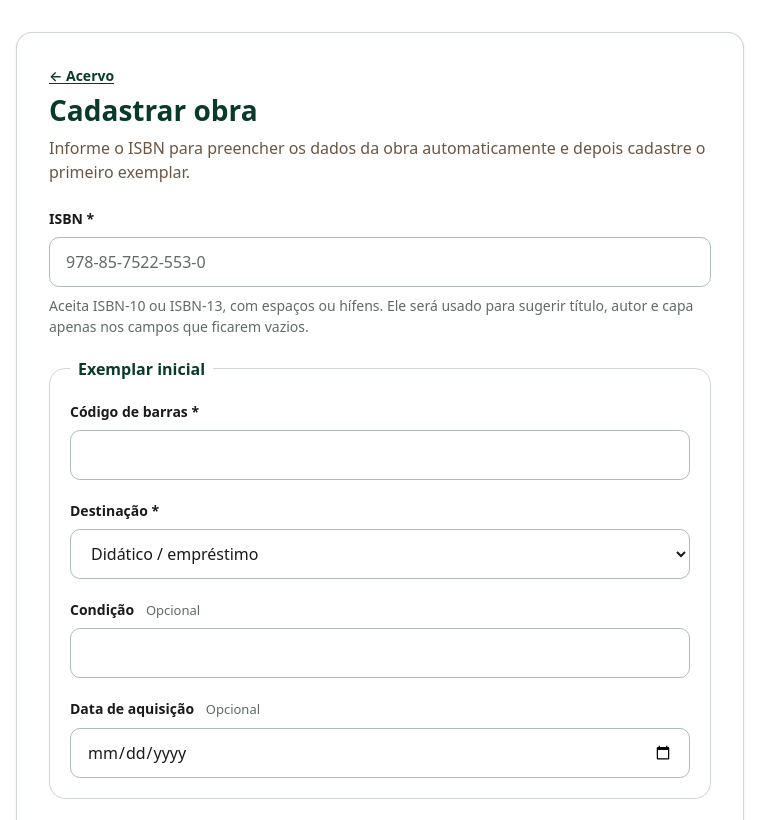
Test case: BookCreateComponent › rejeita ISBN com formato ou checksum inválido
This screenshot has width=761, height=820.
Type "978-85-7522-553-1" into the field with id "book-isbn". click: (380, 262)
box: top-left (50, 238), bottom-right (710, 286)
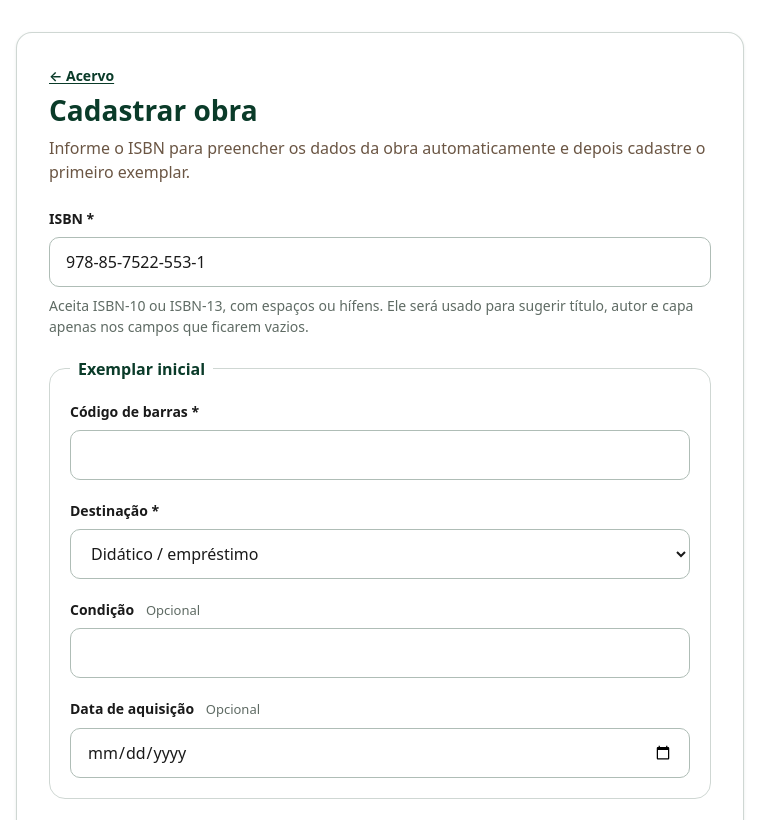
Type "EX-0001" into the field labelled "Código de barras *". click: (380, 455)
box: top-left (71, 431), bottom-right (689, 479)
(page scrolled)
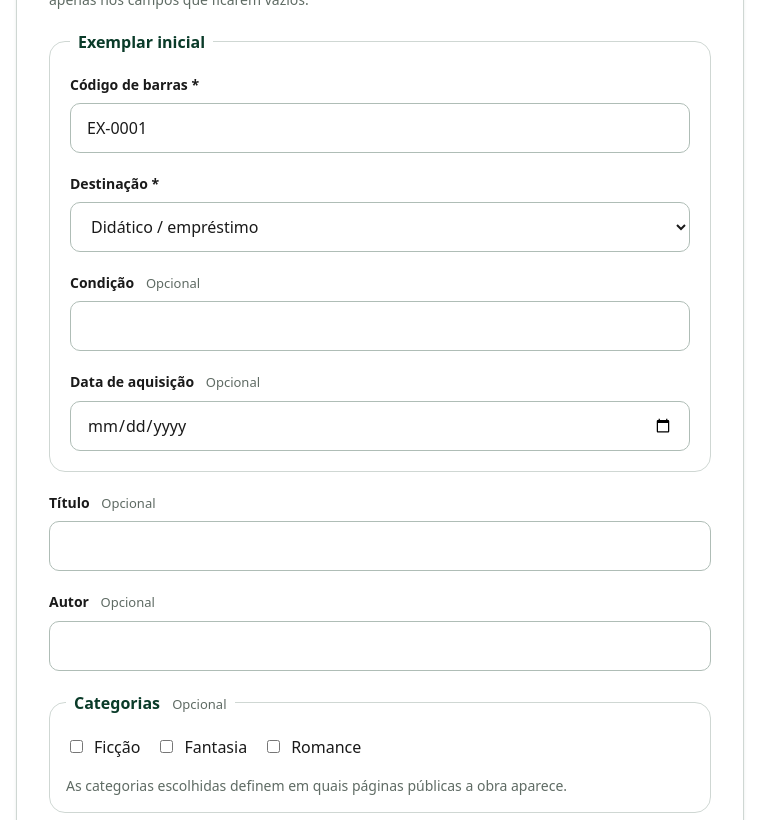
Submit the form
(page scrolled)
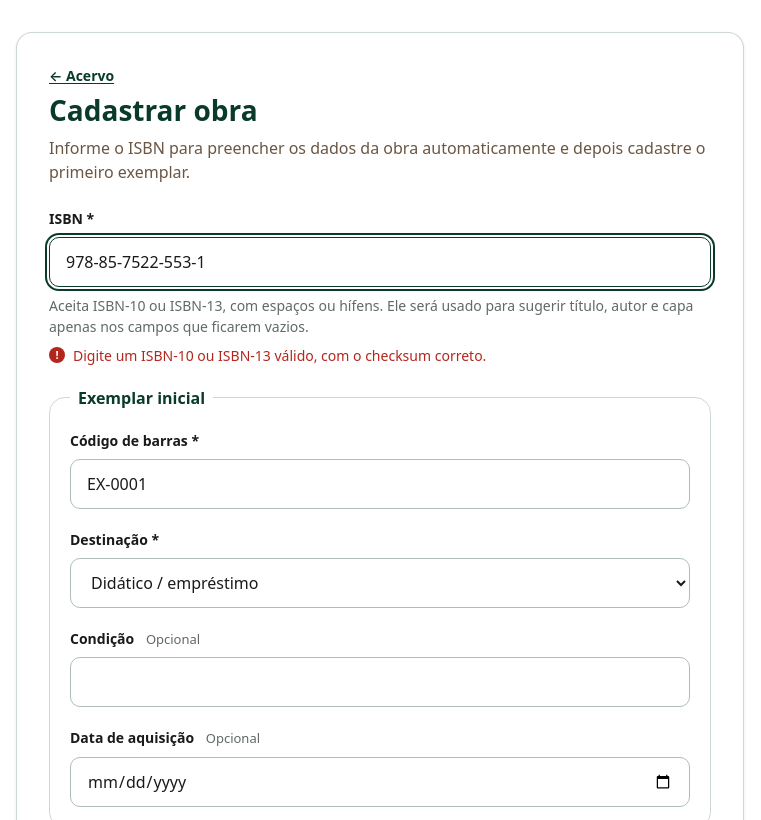
expect the text "checksum correto" is shown: met, box top-left (73, 346), bottom-right (486, 365)
